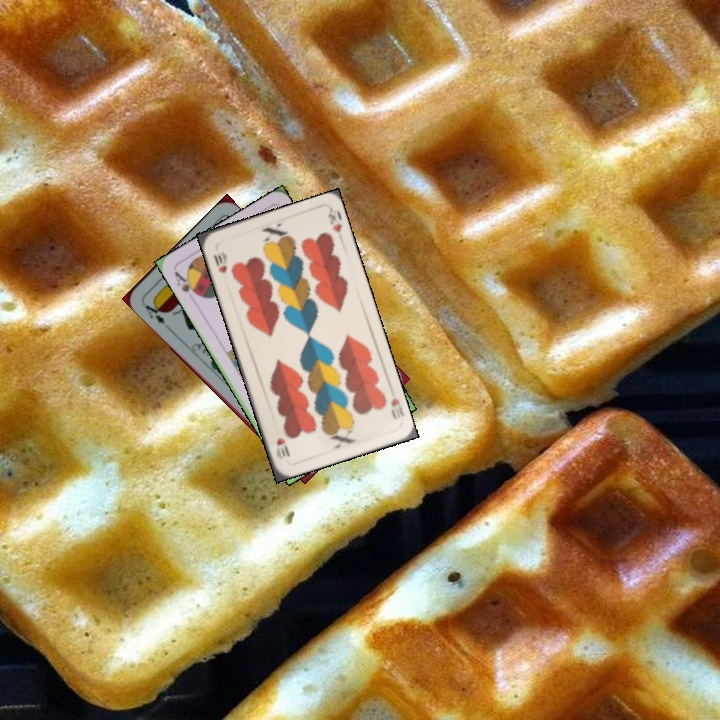EA: (138, 297, 171, 331)
H10: (209, 247, 230, 276), (387, 394, 406, 423)
SA: (170, 267, 202, 299)
